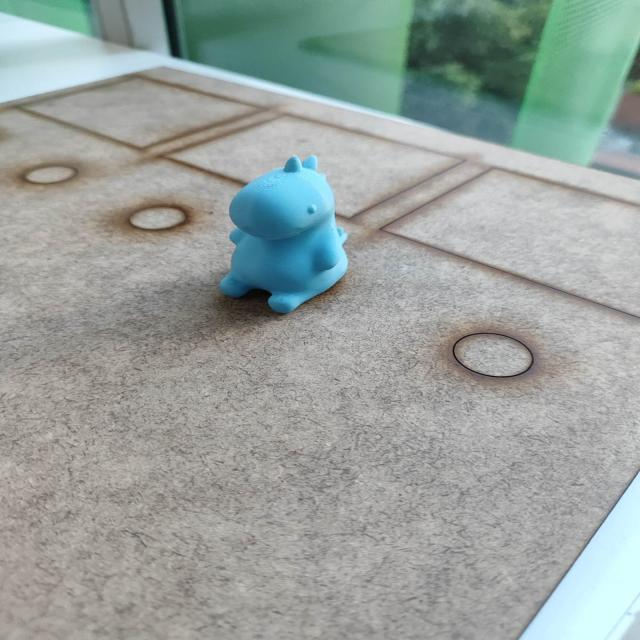DINO: (208, 155, 369, 315)
